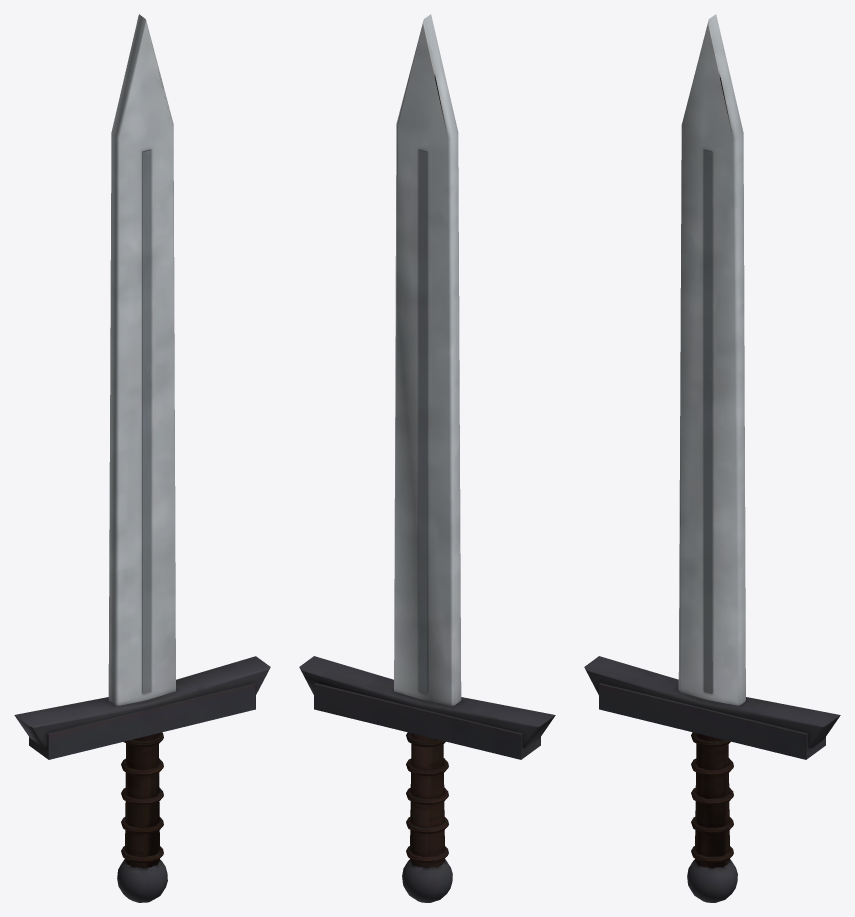
File: blade_steel_lo.glb
3 renders of one model, left to right at view 1: azimuth 30°, elevation 25°; view 2: azimuth 150°, elevation 25°; view 3: azimuth 330°, elevation 25°, orthographic.
Visible parts, largest first — view 1: Blade_steel_lo; view 2: Blade_steel_lo; view 3: Blade_steel_lo.
Part boxes in pixels (bbox=[...]): Blade_steel_lo: bbox=[14, 14, 270, 902]; Blade_steel_lo: bbox=[299, 14, 555, 902]; Blade_steel_lo: bbox=[584, 14, 840, 902].
Bounding box in the file's own units: 0.3498 × 1.22 × 0.064.
Materials: 1 (1 with a texture image).
